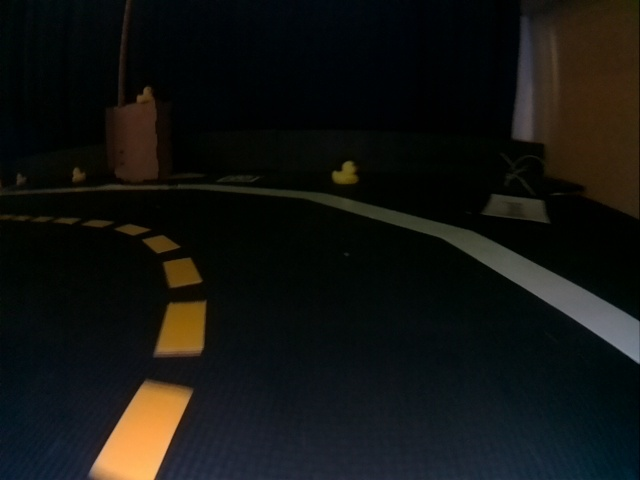Duckie: (331, 161, 358, 184), (137, 87, 154, 101), (71, 167, 86, 181), (16, 174, 26, 184)
QR code: (217, 174, 259, 184)
